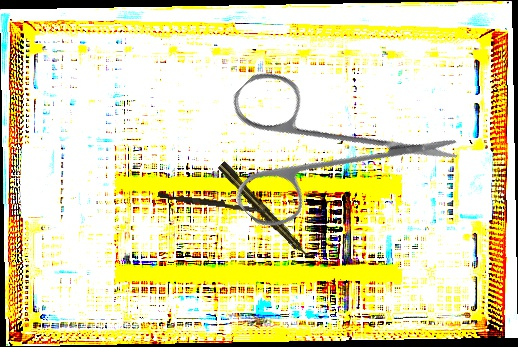Handpiece: (216, 160, 314, 263)
Iris Scissors: (181, 7, 464, 290)
Pusher: (156, 192, 269, 214)
